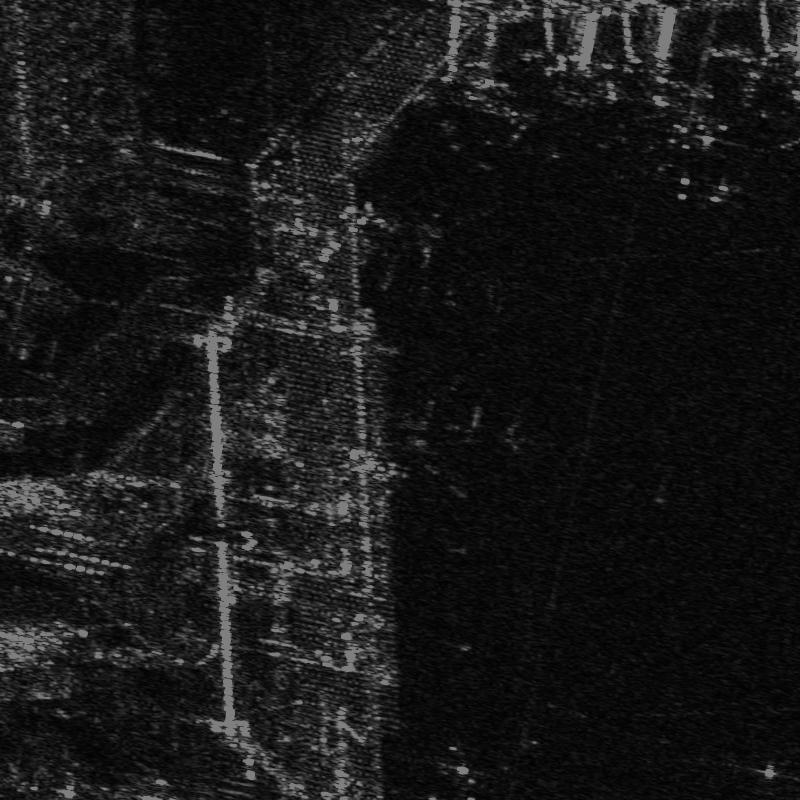A320/321: (387, 374, 525, 505), (646, 116, 752, 213)
